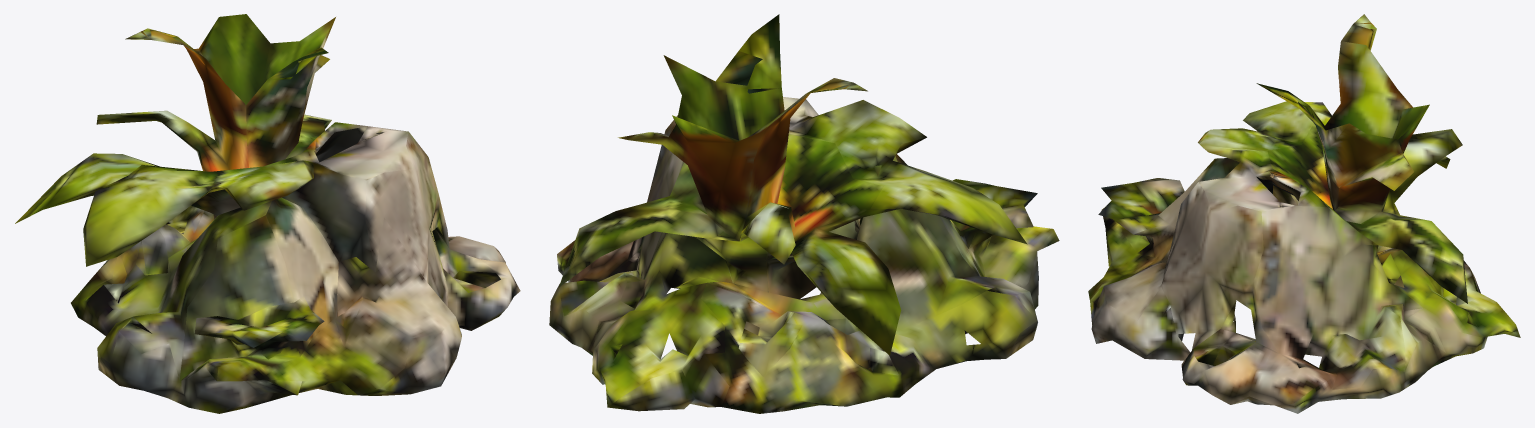
File: SummerDecor_SecondRoom_JunglePlant.fbx
3 renders of one model, left to right at view 1: azimuth 30°, elevation 25°; view 2: azimuth 150°, elevation 25°; view 3: azimuth 270°, elevation 25°, orthographic. The views are drawn at different scales.
Visible parts, largest first — view 1: SummerDecor_SecondRoom_JunglePlant_Mesh; view 2: SummerDecor_SecondRoom_JunglePlant_Mesh; view 3: SummerDecor_SecondRoom_JunglePlant_Mesh.
Boxes of the visible parts, x1,y1,x2,y2 form: SummerDecor_SecondRoom_JunglePlant_Mesh: (15,14,520,413); SummerDecor_SecondRoom_JunglePlant_Mesh: (549,14,1059,413); SummerDecor_SecondRoom_JunglePlant_Mesh: (1088,14,1520,413).
Size of the model in its own units: 6 by 3.78 by 5.75.
1 material, 1 textured.
